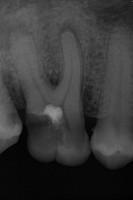Endo-Periodontal Lesion: (47, 73, 63, 86)
Furcation Involvement: (88, 0, 133, 32), (0, 18, 32, 49), (57, 23, 82, 47)
